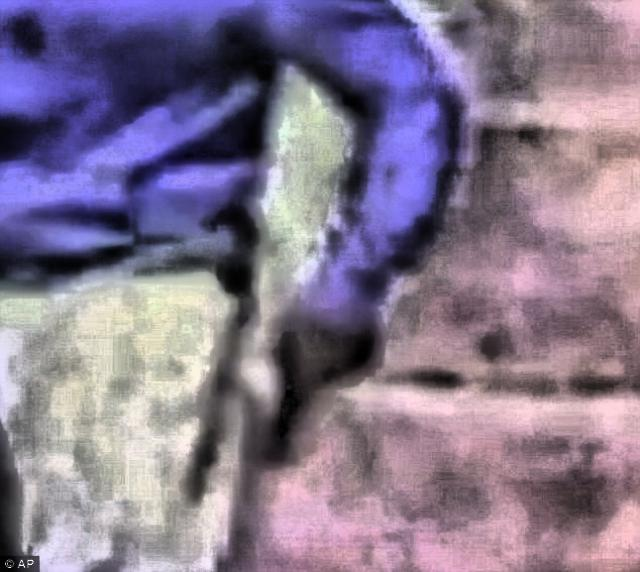pistol: (244, 317, 376, 471)
